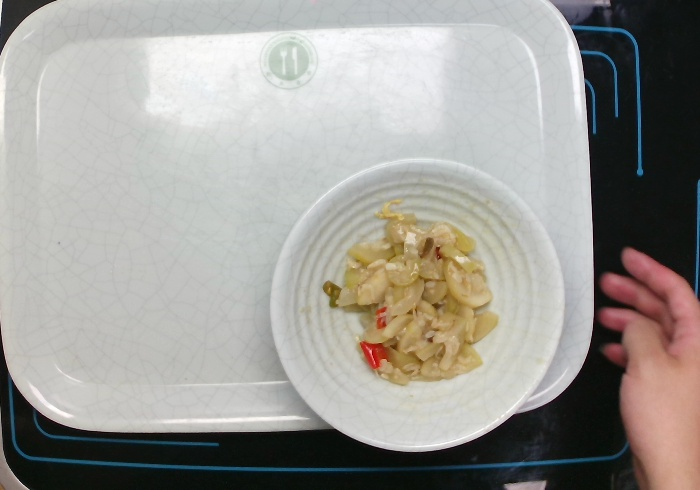JYsf-Xiao_Tang_Wan: (265, 154, 568, 453)
